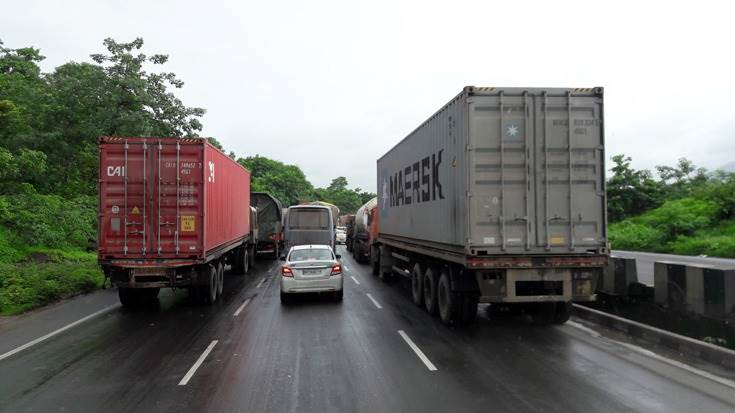car: (283, 245, 344, 308), (284, 204, 335, 248)
truck: (379, 97, 612, 327), (99, 136, 249, 300), (250, 192, 283, 260)
